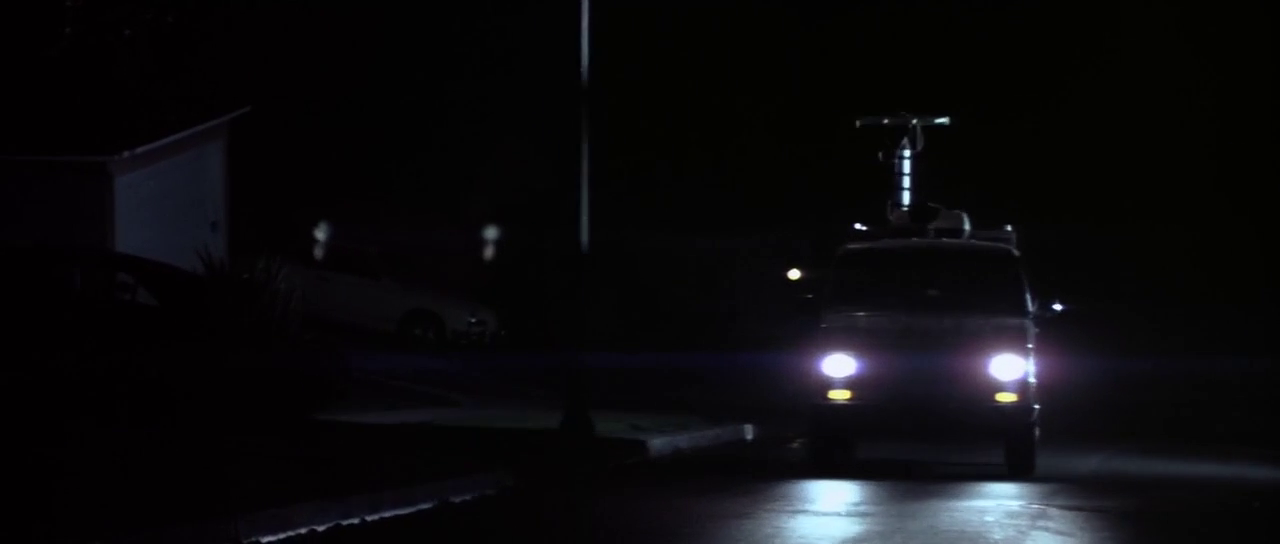car: (791, 203, 1067, 491)
